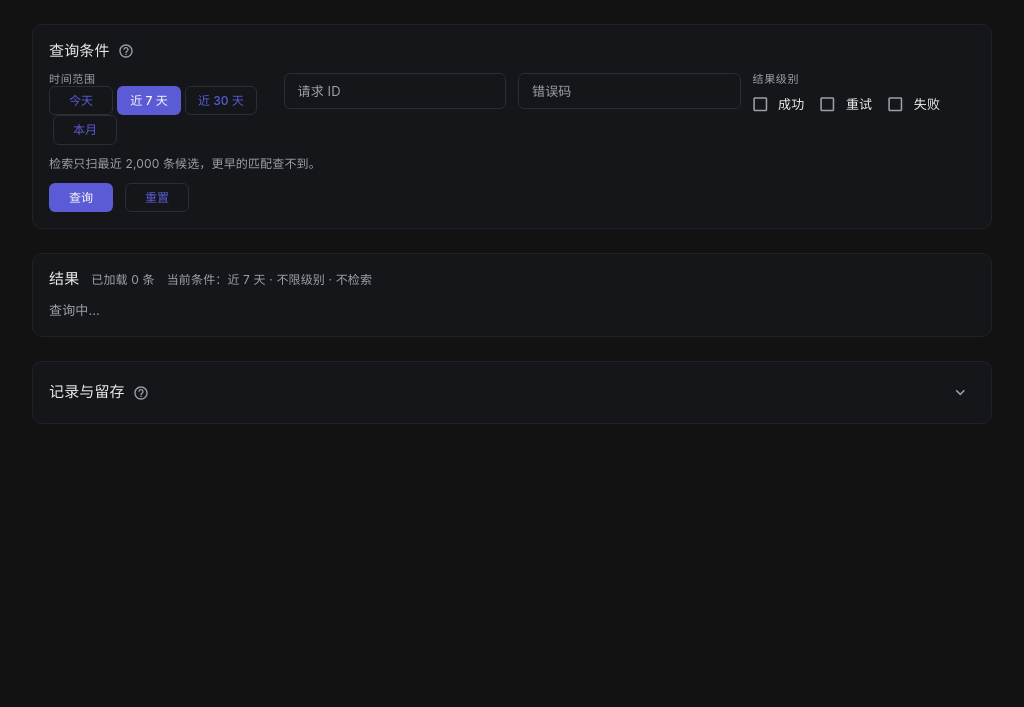
[task-23 B] 导出诊断包：路径不是前端编的，落盘以后端回执为准 › 后端回执：显示回执里的落盘路径与字节数，而不是自己填的那个目录（真机上的常见路径）
The width and height of the screenshot is (1024, 707).
Click the button with test id "logs-advanced-toggle". click: {"x": 961, "y": 393}
box: [946,378,975,407]
(page scrolled)
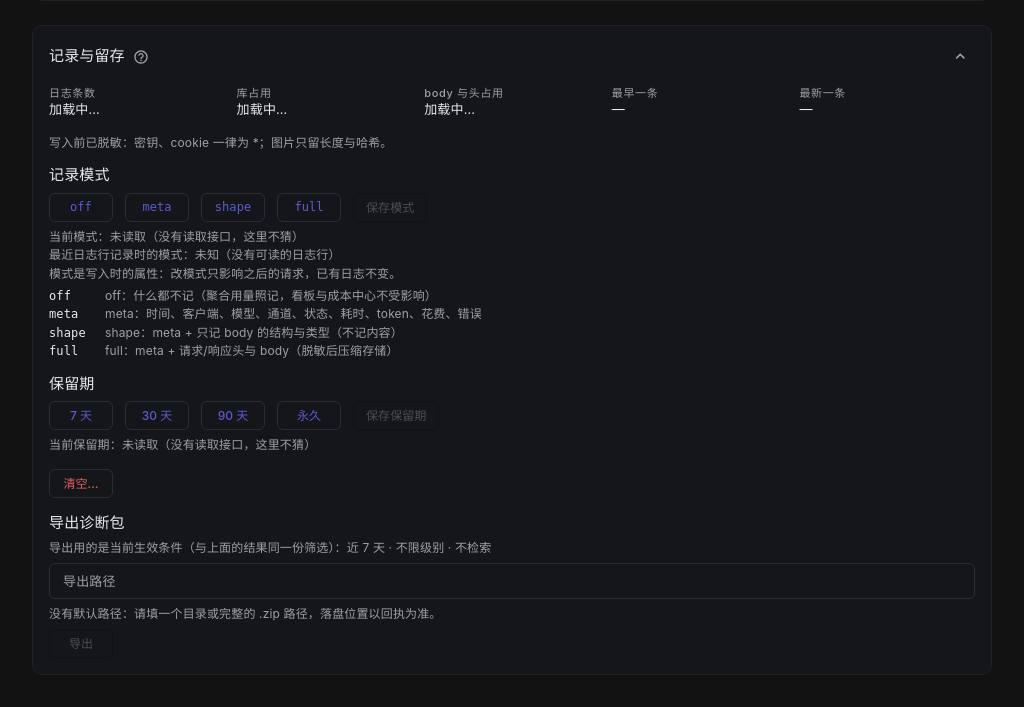
Type "D:\\out" into the field. click: {"x": 512, "y": 581}
box: [49,563,975,599]
(page scrolled)
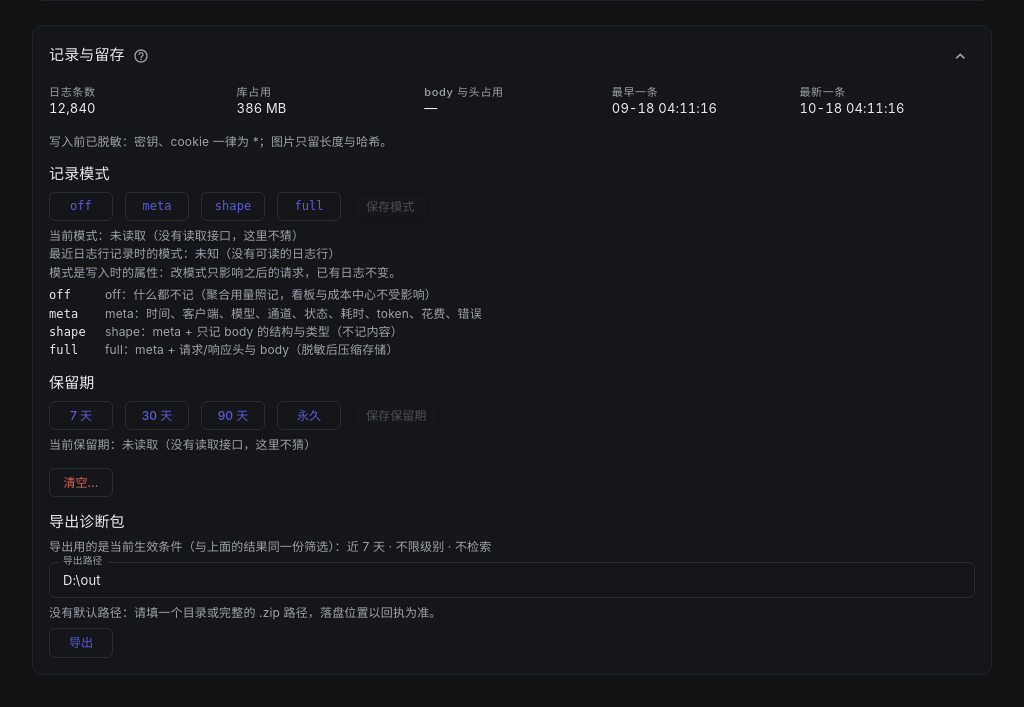
Click the button with test id "logs-export-run". click: {"x": 81, "y": 643}
box: [49,628,113,658]
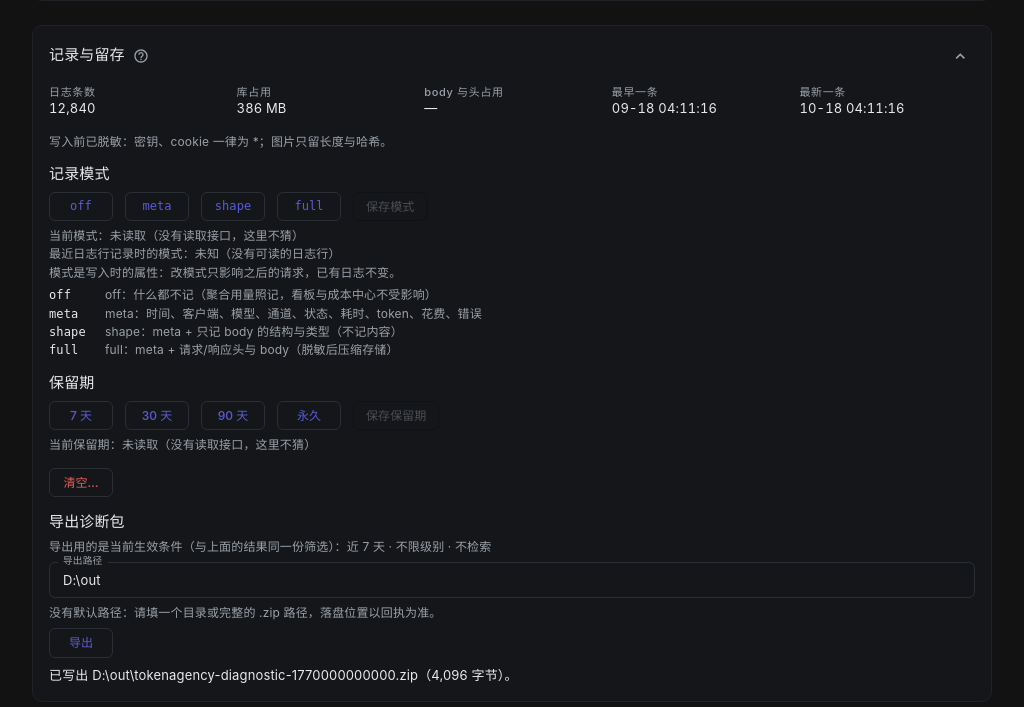
Check: the text with test id "logs-export-written" shows "tokenagency-diagnostic-1770000000000.zip", box [49,667,518,683]
Check: the text with test id "logs-export-written" shows "4,096", box [49,667,518,683]
